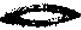Mouth: (0, 3, 80, 28)
